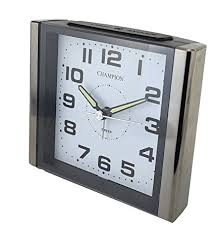alarm_clock: (21, 15, 208, 221)
